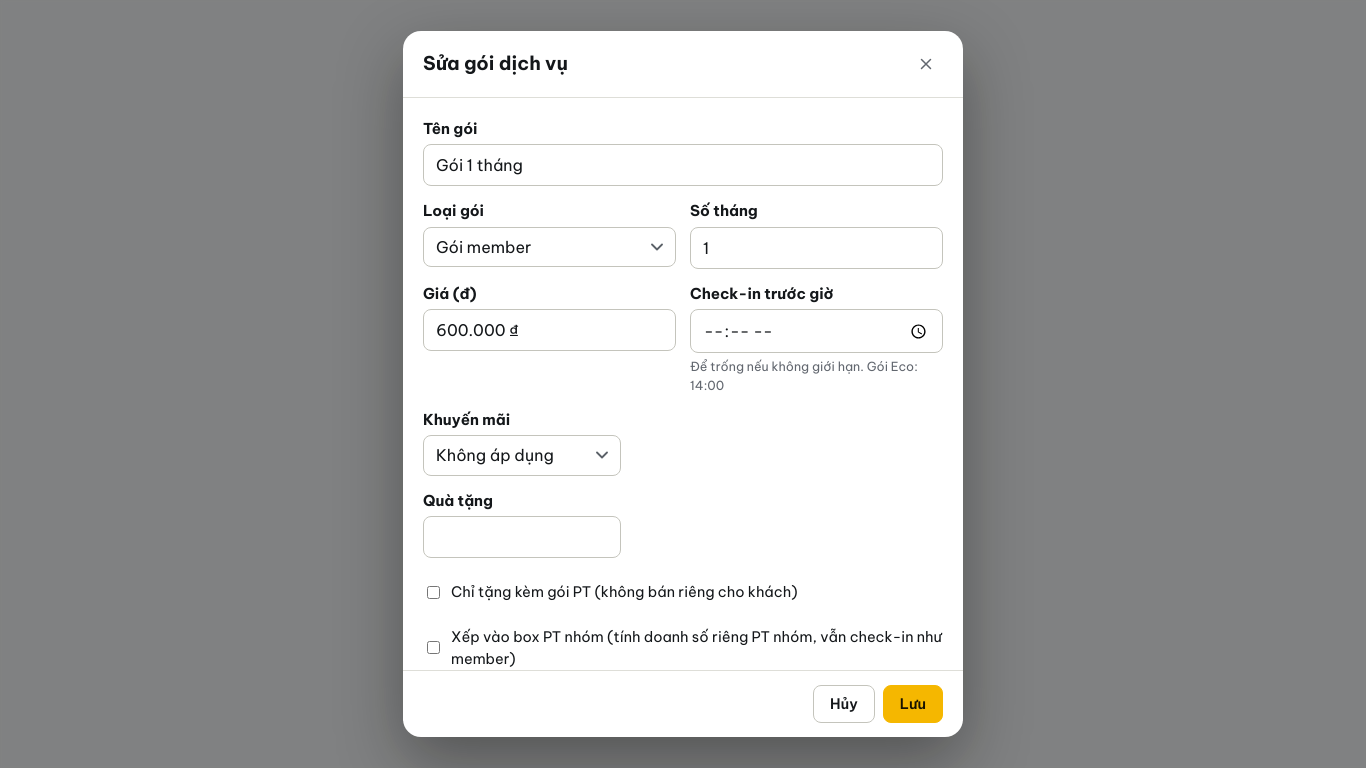
Packages page › promotion needs a value and an end date
Select "Tặng tháng" in the dropdown labelled "Khuyến mãi" at point(522, 455), box [423,435,621,476]
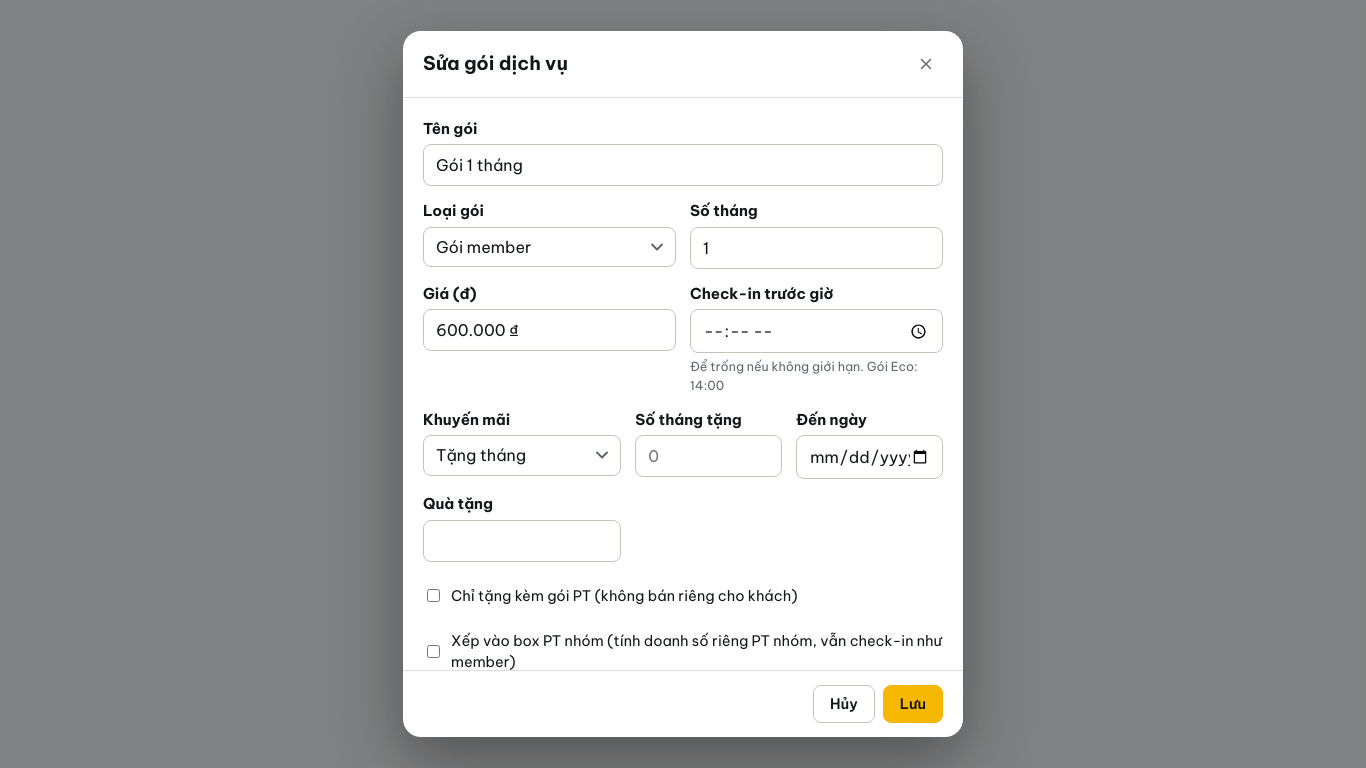
Click the button "Lưu" at point(913, 704), box [883,685,943,723]
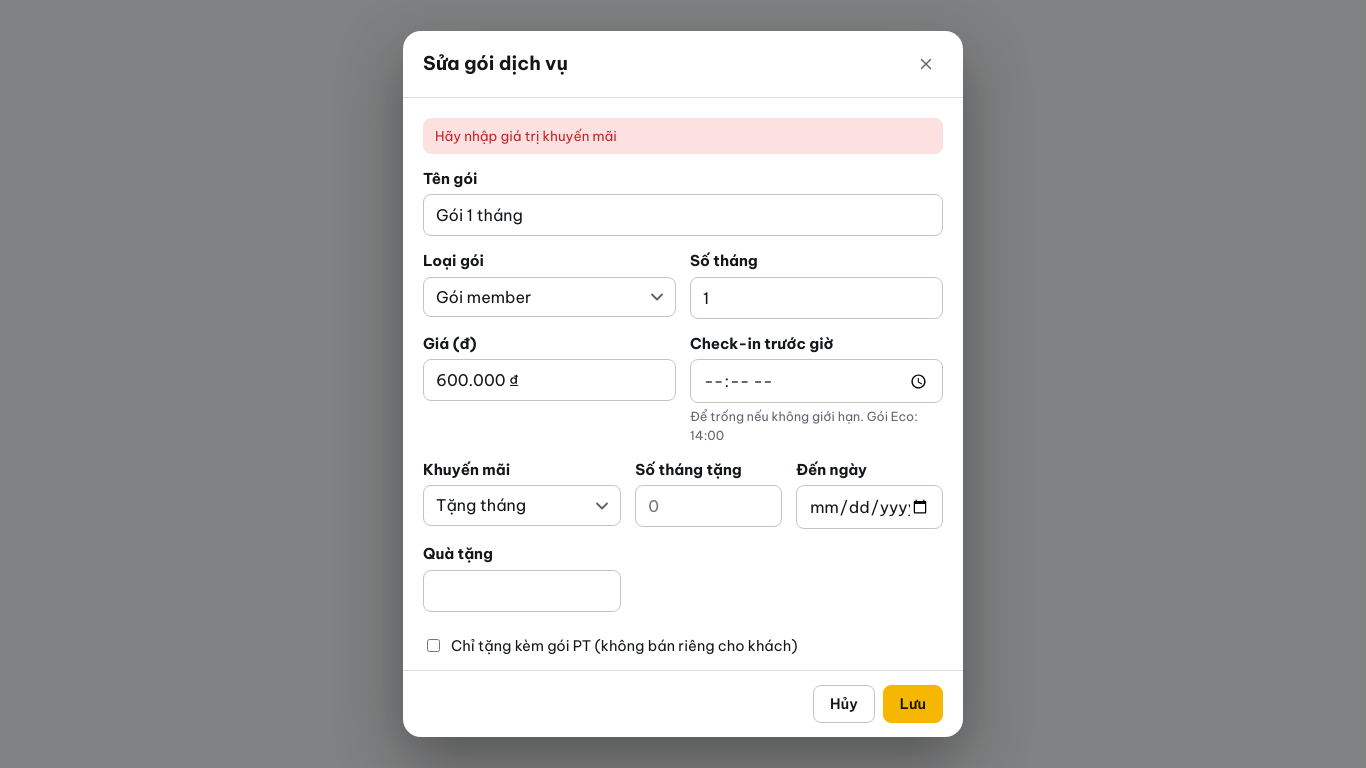
Check: the text "Hãy nhập giá trị khuyến mãi" is shown, box [423,118,943,154]
